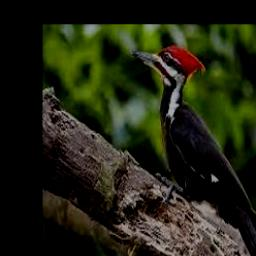Woodpecker: (131, 44, 256, 256)
